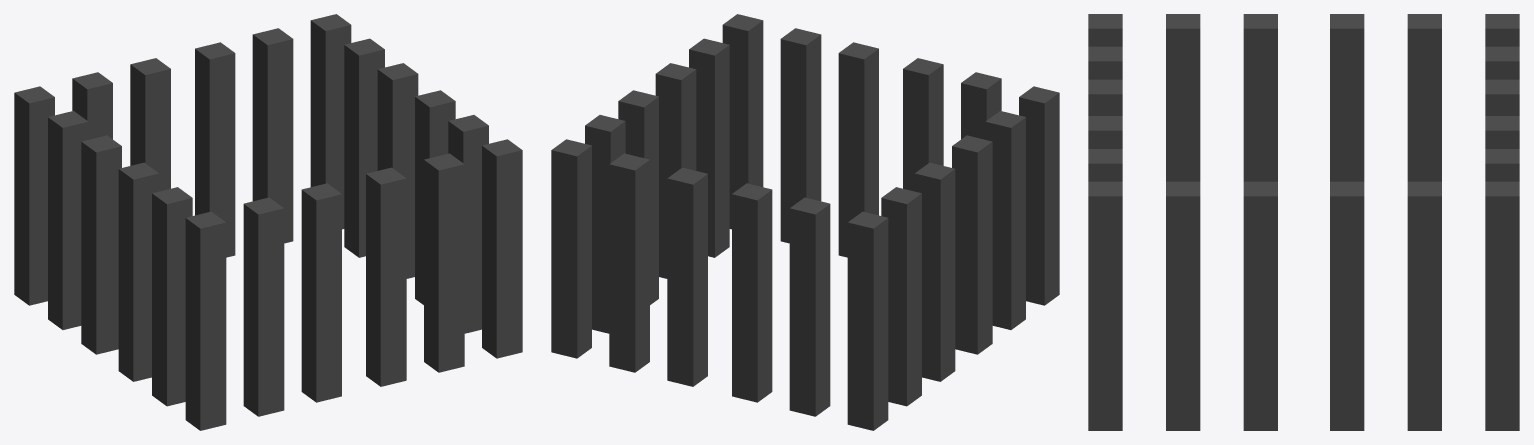
File: Jeil.fbx
3 renders of one model, left to right at view 1: azimuth 30°, elevation 25°; view 2: azimuth 150°, elevation 25°; view 3: azimuth 270°, elevation 25°, orthographic. The views are drawn at different scales.
Visible parts, largest first — view 1: Jeil; view 2: Jeil; view 3: Jeil.
Boxes of the visible parts, box(x1,y1,x2,y2) form: Jeil: box(14, 14, 522, 430); Jeil: box(551, 14, 1059, 430); Jeil: box(1088, 14, 1519, 430).
Bounding box in the file's own units: 500 × 300 × 500.
1 material, 1 textured.
